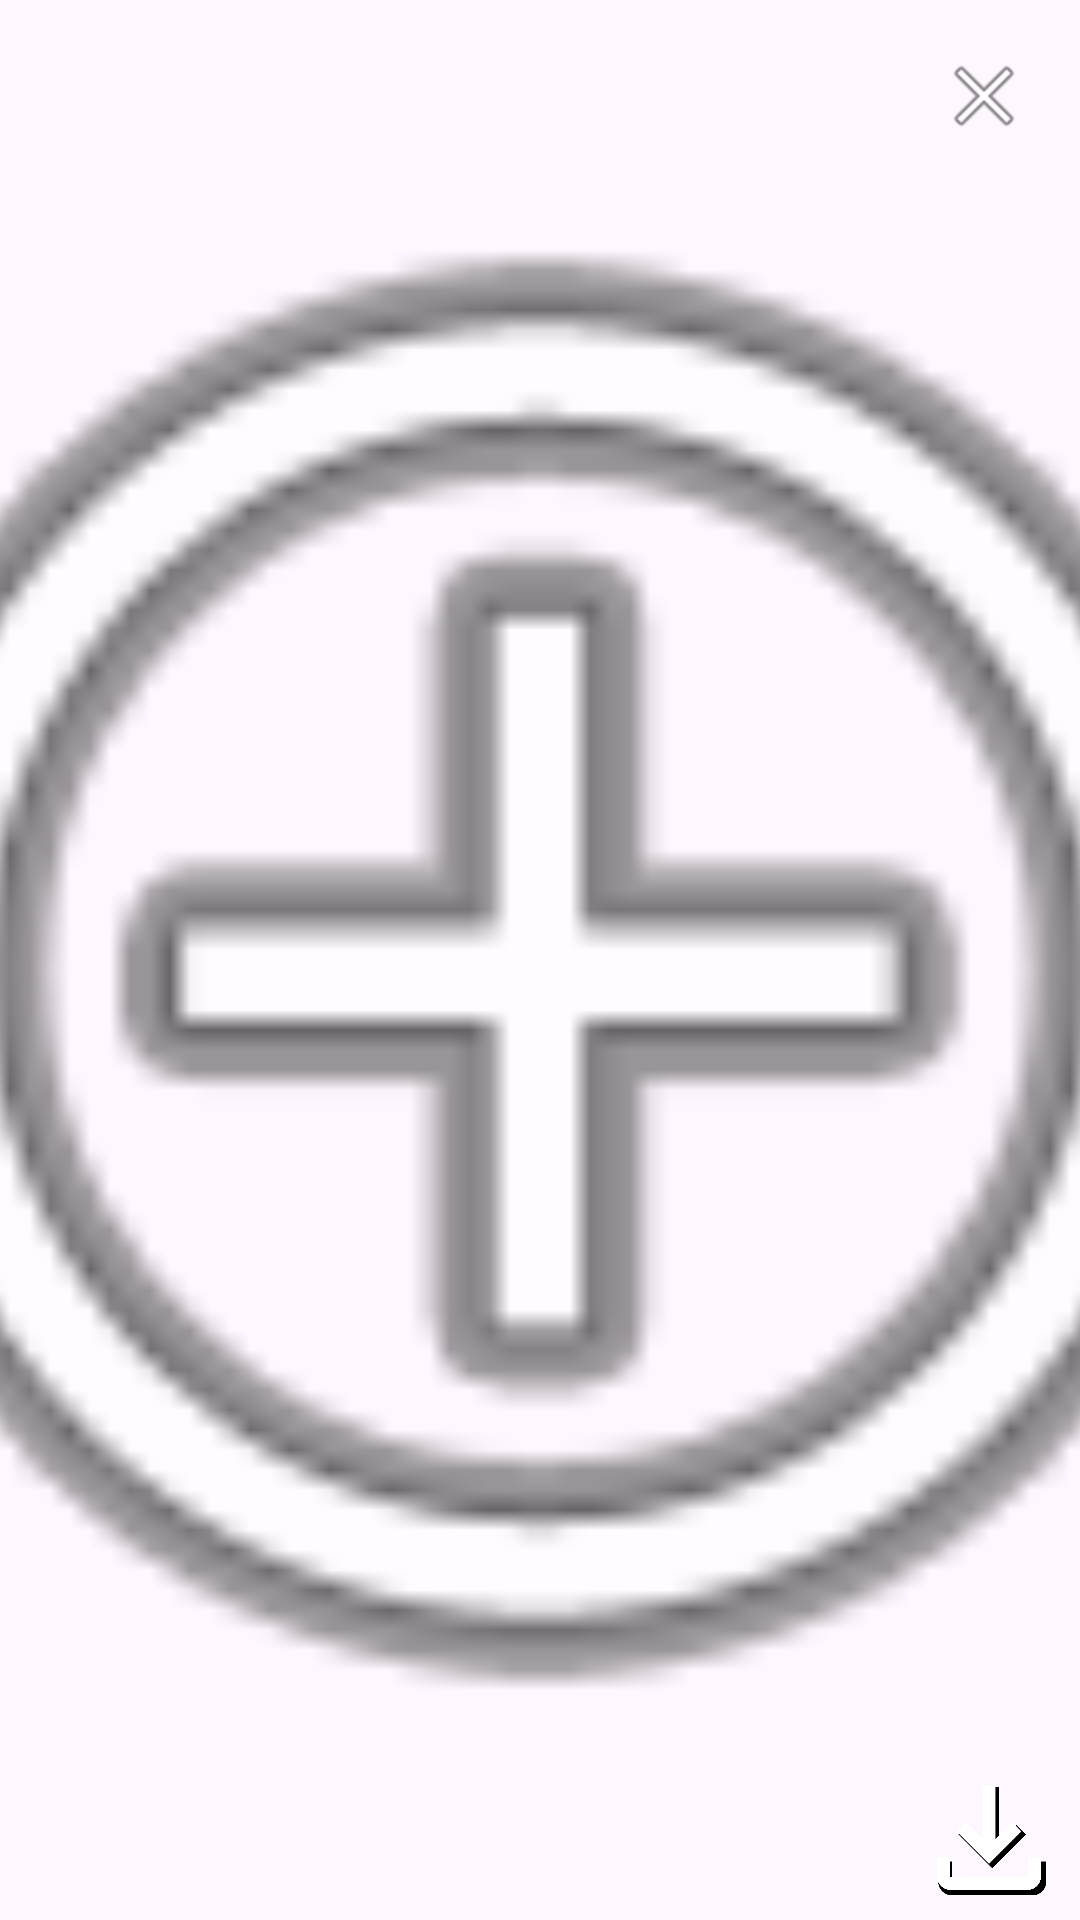

Icon bounding boxes for this 1080x1920 phone screenshot, format (x1, y1, x2, y2):
close clear cancel: (954, 66, 1014, 126)
download: (938, 1787, 1046, 1895)
